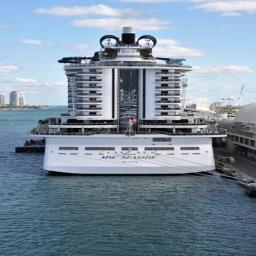cruises: (31, 26, 229, 178)
